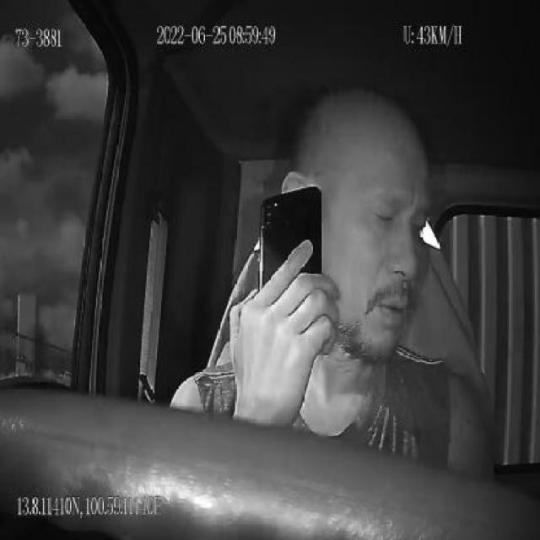phone: (256, 178, 323, 350)
